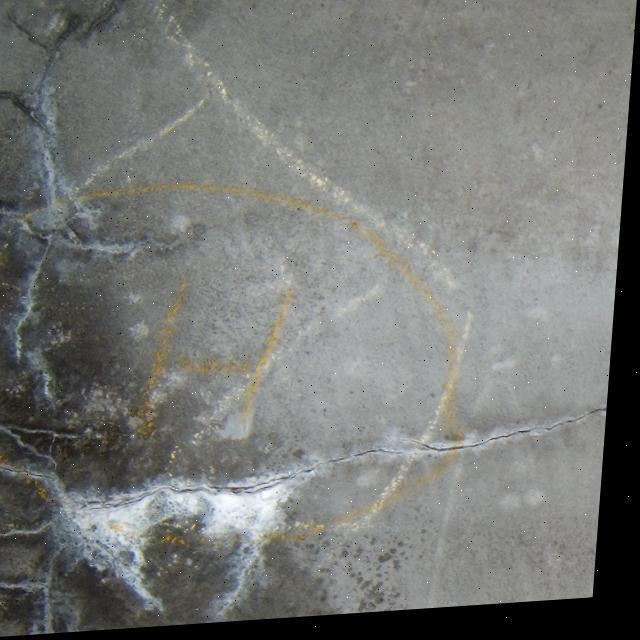D01: (46, 474, 305, 594)
